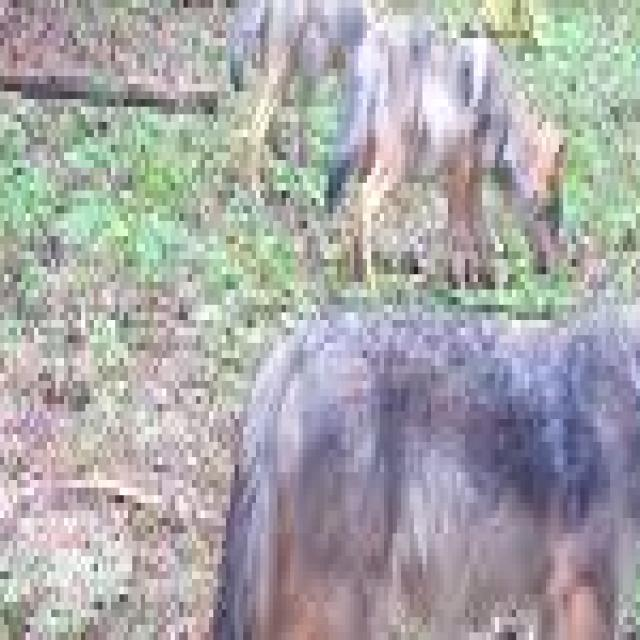wolf: (179, 183, 640, 640), (346, 0, 572, 282)
